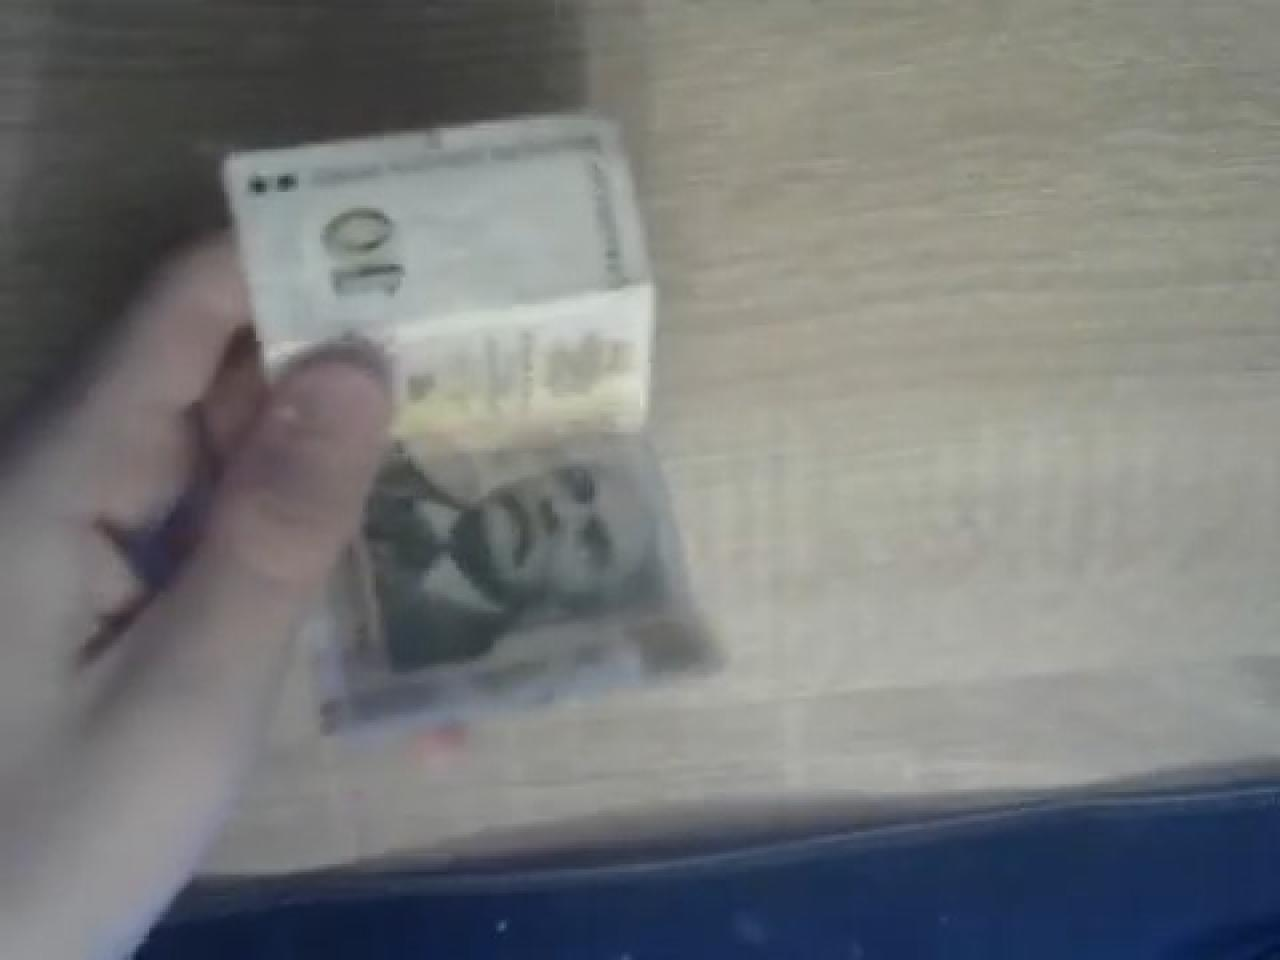10leva: (222, 104, 715, 731)
